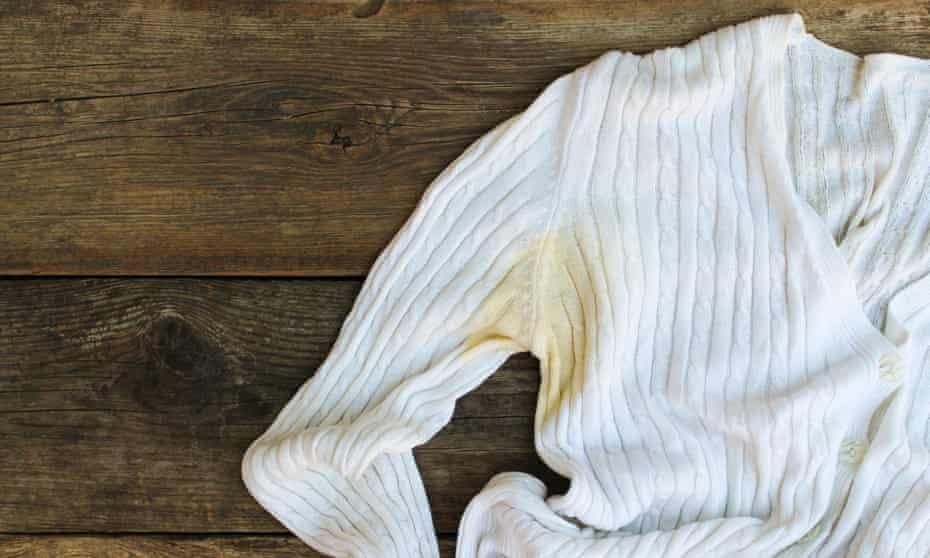gun: (460, 234, 598, 413)
